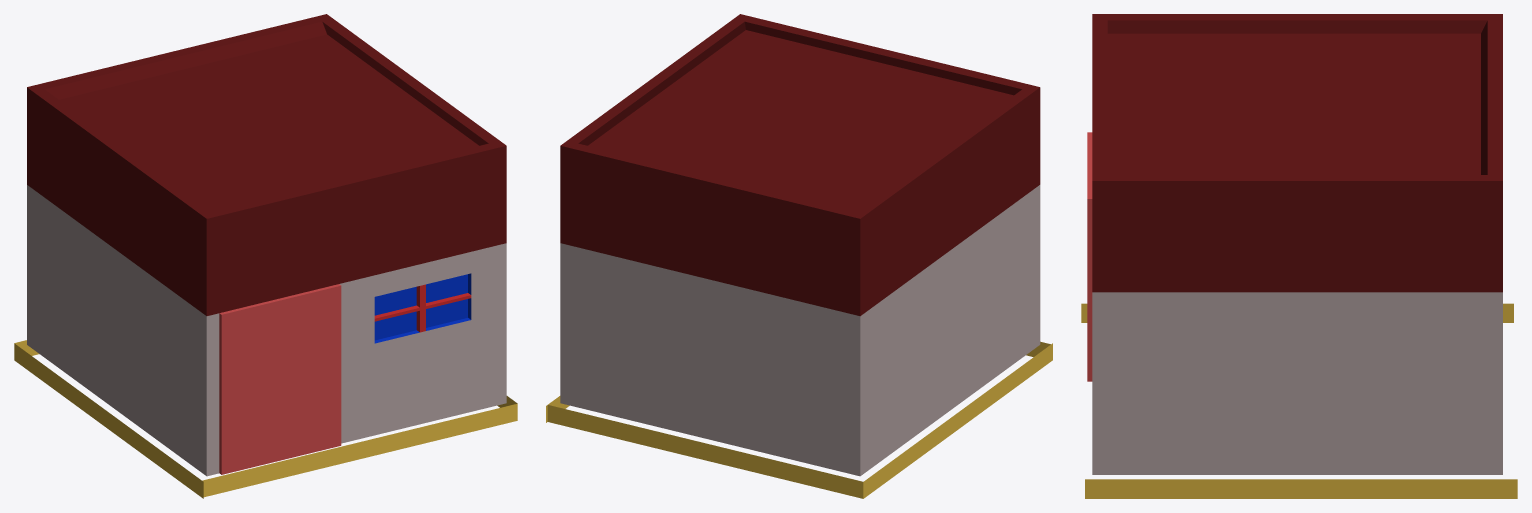
Rendered from CasaChicaCiudad.FBX.
3 renders of one model, left to right at view 1: azimuth 30°, elevation 25°; view 2: azimuth 150°, elevation 25°; view 3: azimuth 270°, elevation 25°, orthographic. The views are drawn at different scales.
Parts seen in each view (by area): view 1: CasaChicaCiudad; view 2: CasaChicaCiudad; view 3: CasaChicaCiudad.
Boxes of the visible parts, box(x1,y1,x2,y2) form: CasaChicaCiudad: box(14, 14, 517, 498); CasaChicaCiudad: box(546, 14, 1052, 498); CasaChicaCiudad: box(1081, 14, 1517, 498).
Bounding box in the file's own units: 980 × 815 × 1027.
